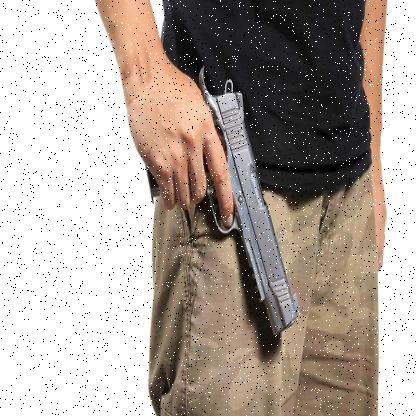pistol: (146, 56, 297, 332)
